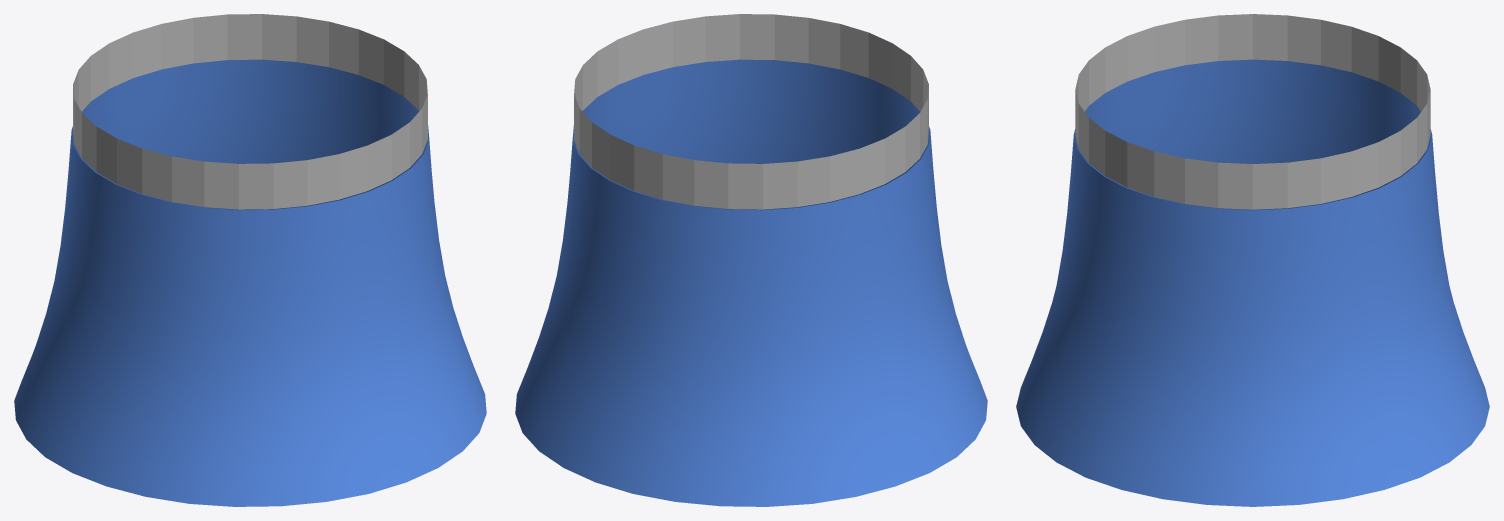
The model's file is arm_base_blue.dae.
3 renders of one model, left to right at view 1: azimuth 30°, elevation 25°; view 2: azimuth 150°, elevation 25°; view 3: azimuth 270°, elevation 25°, orthographic.
Visible parts, largest first — view 1: base; view 2: base; view 3: base.
Boxes of the visible parts, x1=… form: base: x1=14, y1=14, x2=486, y2=506; base: x1=515, y1=14, x2=987, y2=506; base: x1=1016, y1=14, x2=1489, y2=506.
Bounding box in the file's own units: 0.1601 × 0.1601 × 0.1185.
